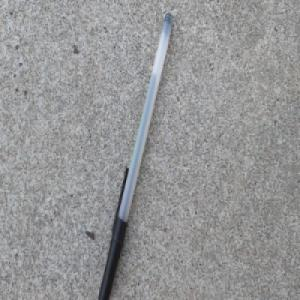Pen: (98, 9, 175, 300)
